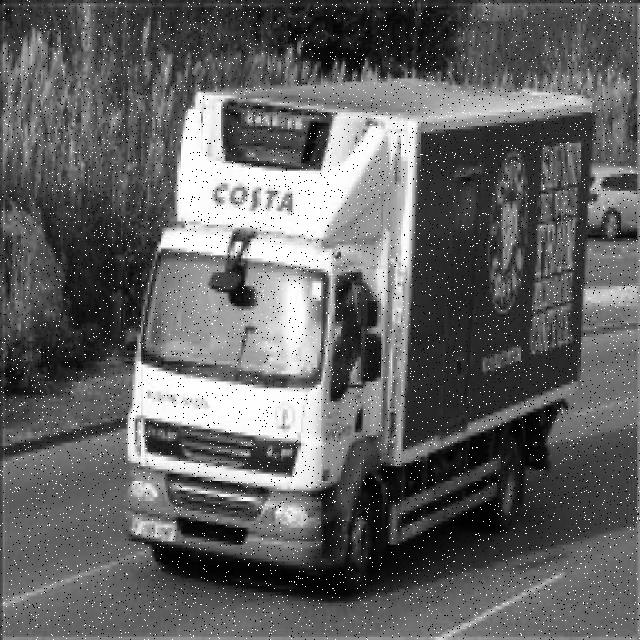Box Truck: (125, 78, 596, 595)
